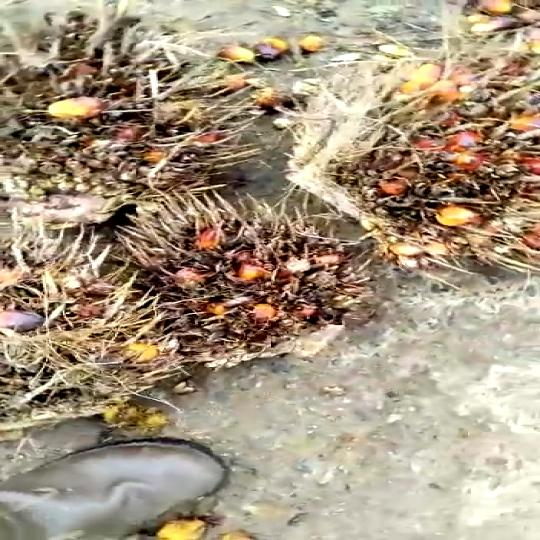terlalu masak: (285, 18, 540, 292), (0, 21, 290, 230), (111, 192, 393, 375)
